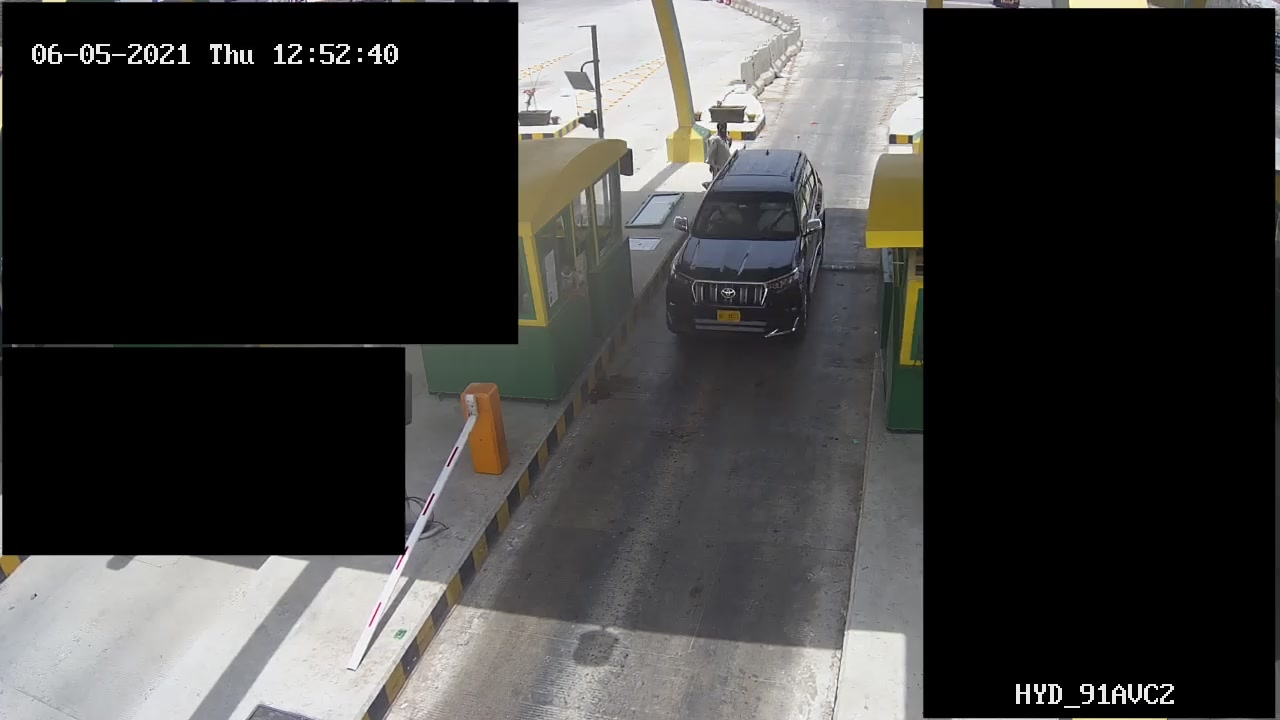F1: (667, 149, 820, 344)
